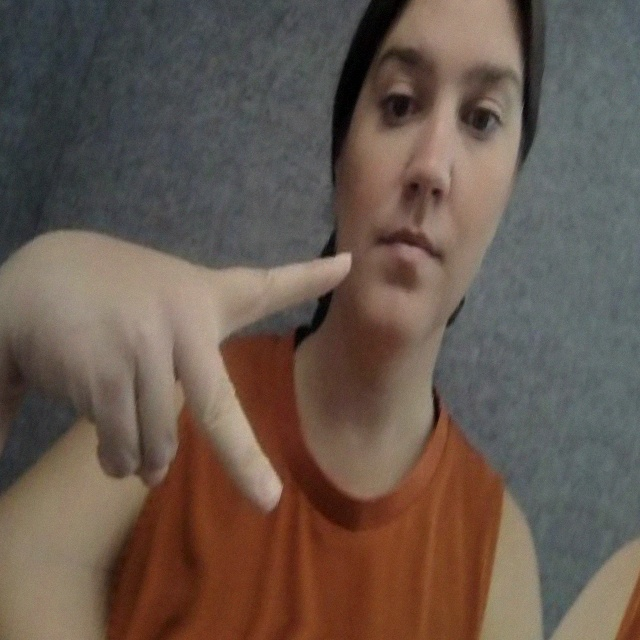Scissors: (0, 154, 464, 638)
